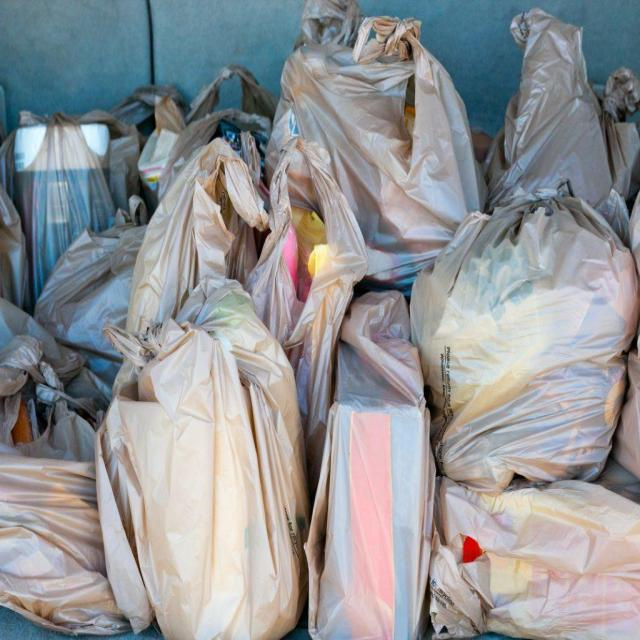plastic_bag: (108, 293, 296, 615), (275, 10, 478, 278), (443, 242, 625, 470), (4, 350, 112, 630), (335, 320, 426, 637), (444, 490, 631, 635), (159, 168, 252, 351), (514, 14, 591, 231), (19, 122, 109, 296), (135, 87, 272, 169)
